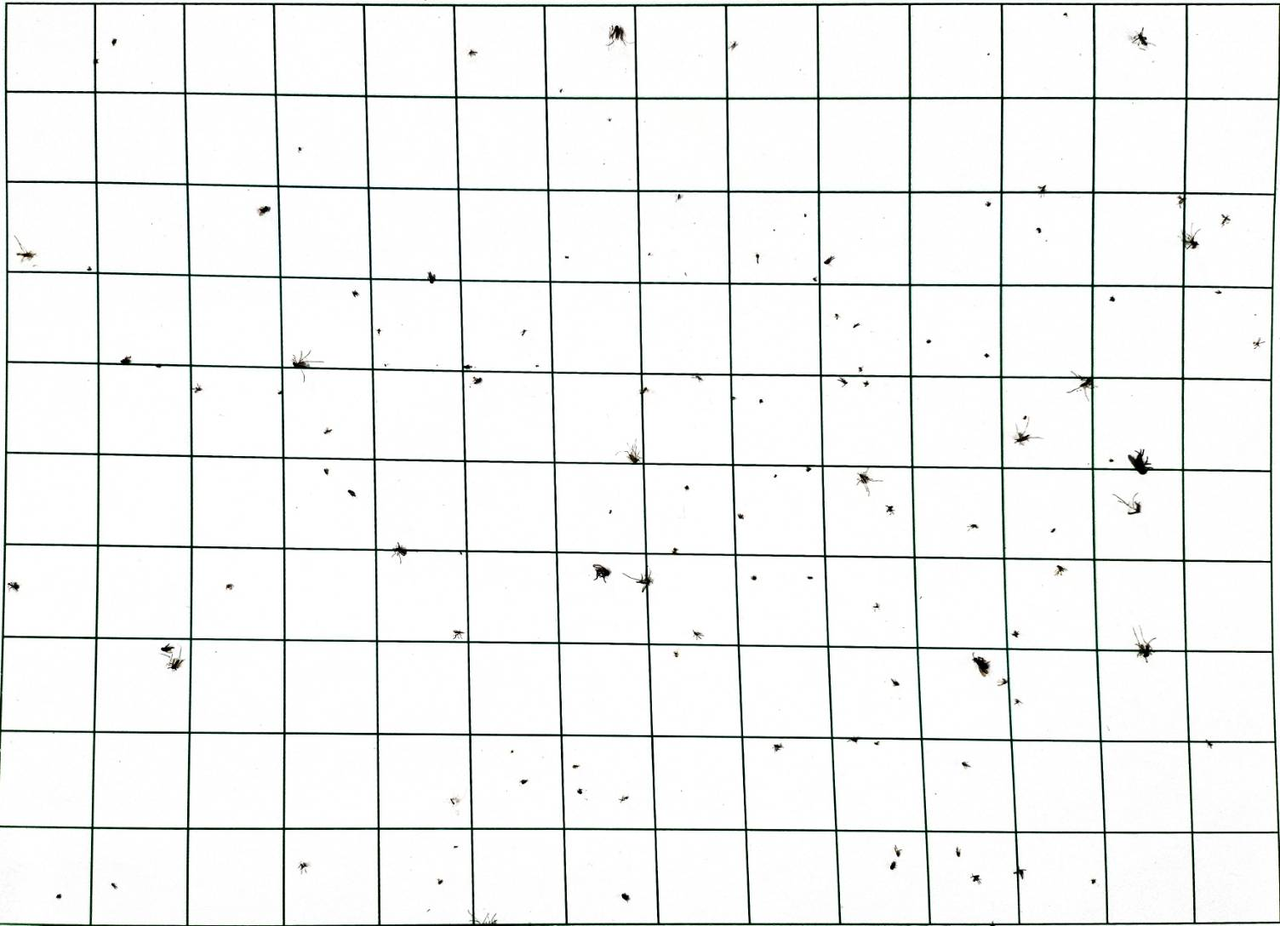fly: (1126, 447, 1154, 475), (589, 564, 611, 580)
test: (293, 348, 326, 376), (1131, 625, 1157, 660), (854, 469, 884, 497), (1067, 370, 1096, 398), (1013, 417, 1041, 446), (1113, 491, 1142, 515), (1181, 223, 1203, 250), (1128, 27, 1154, 49), (466, 909, 498, 925), (621, 441, 642, 463), (165, 647, 185, 670), (635, 569, 654, 593), (607, 24, 627, 46), (972, 654, 991, 677), (390, 542, 408, 562), (16, 249, 38, 264), (291, 354, 310, 369), (1033, 227, 1048, 243), (1013, 867, 1026, 881), (160, 643, 175, 655), (1253, 337, 1266, 350), (7, 581, 21, 592), (257, 205, 271, 216), (1054, 565, 1067, 576), (1220, 213, 1231, 226), (192, 382, 203, 394), (1037, 185, 1048, 197), (298, 861, 309, 873), (426, 271, 436, 284), (996, 677, 1008, 687), (452, 629, 464, 639), (692, 630, 704, 640), (894, 844, 903, 857), (837, 377, 848, 387), (970, 873, 981, 883), (824, 255, 835, 265), (728, 40, 738, 51), (1177, 195, 1186, 207), (691, 374, 704, 382), (885, 505, 895, 515), (620, 892, 630, 902), (120, 355, 131, 364), (472, 376, 483, 385), (450, 797, 461, 806), (773, 743, 783, 752), (639, 386, 649, 395), (347, 489, 357, 498), (847, 737, 859, 744), (967, 524, 979, 531), (889, 860, 897, 870), (890, 678, 900, 686), (323, 427, 333, 435), (872, 602, 880, 612), (468, 49, 478, 57), (955, 846, 962, 857), (675, 193, 683, 202), (1011, 630, 1020, 638), (1205, 739, 1213, 748), (619, 795, 629, 802), (961, 761, 970, 768), (352, 290, 359, 298), (225, 584, 233, 591), (671, 547, 679, 554), (1014, 698, 1022, 705), (110, 882, 118, 889), (673, 650, 680, 658), (576, 787, 584, 794), (805, 465, 813, 472), (755, 253, 760, 264), (520, 779, 529, 785), (463, 364, 472, 370), (323, 468, 330, 475), (521, 329, 528, 336), (863, 380, 870, 387), (437, 878, 444, 885), (737, 513, 744, 520), (852, 323, 860, 329), (111, 38, 117, 46), (1036, 227, 1042, 234), (1049, 527, 1056, 533), (376, 328, 382, 335), (833, 313, 839, 320), (1108, 458, 1115, 464), (1091, 878, 1097, 885), (155, 363, 162, 369), (750, 575, 757, 581), (297, 146, 303, 153), (94, 58, 100, 65), (731, 394, 737, 401), (572, 764, 580, 769), (1109, 296, 1115, 302), (985, 201, 991, 207), (56, 893, 62, 899), (684, 485, 690, 491), (812, 276, 818, 282), (1063, 12, 1069, 18), (858, 366, 863, 373), (873, 741, 880, 746), (1215, 290, 1223, 294), (759, 398, 764, 404), (807, 575, 813, 580), (926, 339, 932, 344), (608, 508, 613, 514), (773, 473, 778, 479), (984, 353, 990, 358), (86, 266, 92, 271), (277, 390, 282, 395), (991, 920, 996, 925), (565, 254, 570, 259)
